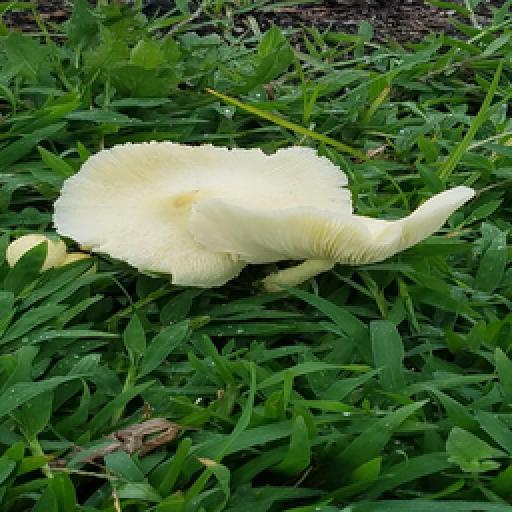mushrooms: (55, 144, 474, 290)
